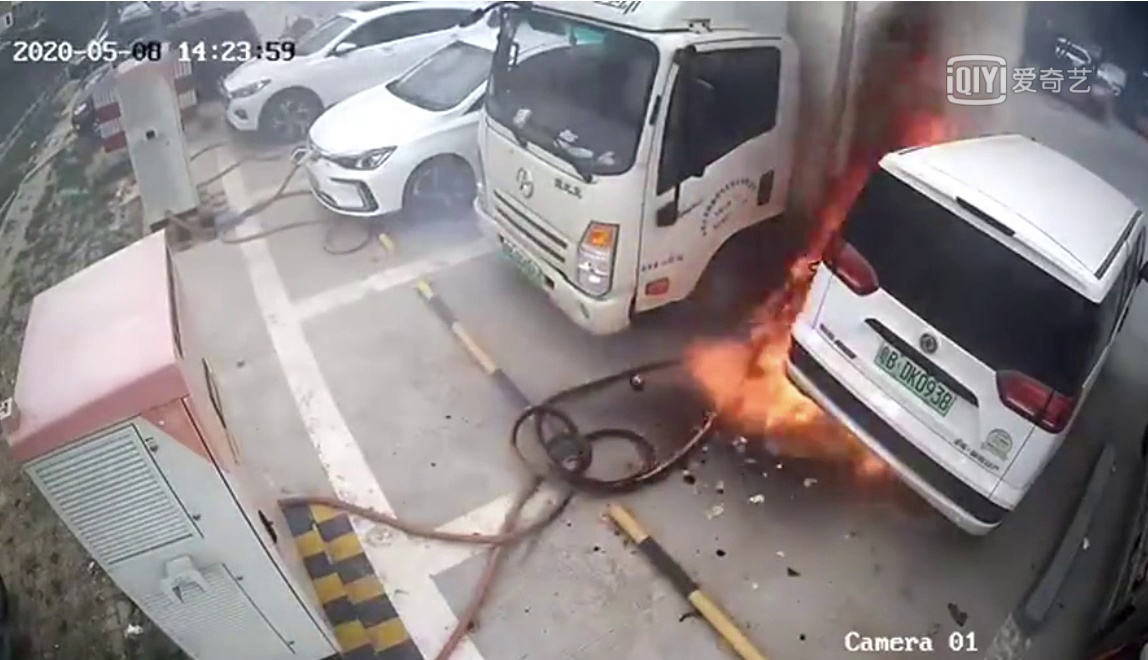fire: (683, 295, 810, 450)
